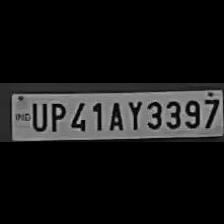1: (87, 98, 105, 130)
3: (144, 97, 162, 129), (163, 96, 181, 128)
4: (66, 97, 88, 131)
7: (201, 96, 219, 128)
9: (182, 96, 200, 128)
A: (105, 98, 125, 130)
P: (46, 98, 66, 132)
U: (29, 98, 47, 130)
Y: (125, 97, 143, 130)
